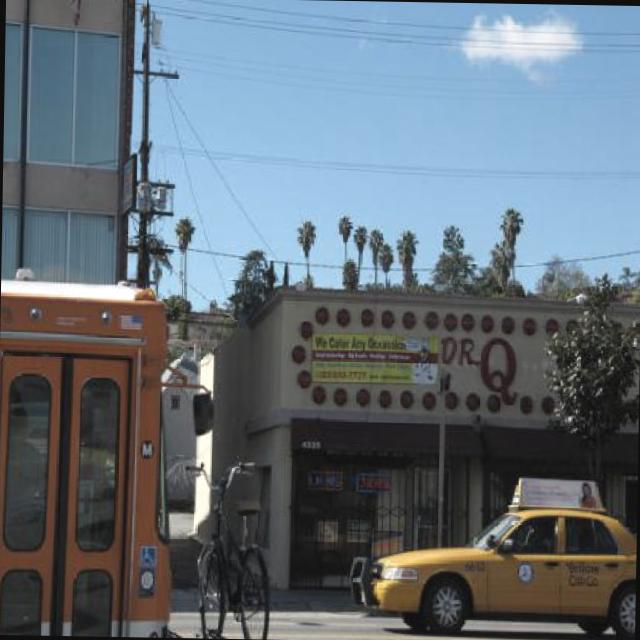Person: (2, 404, 46, 549), (578, 480, 596, 506), (536, 526, 550, 550)
